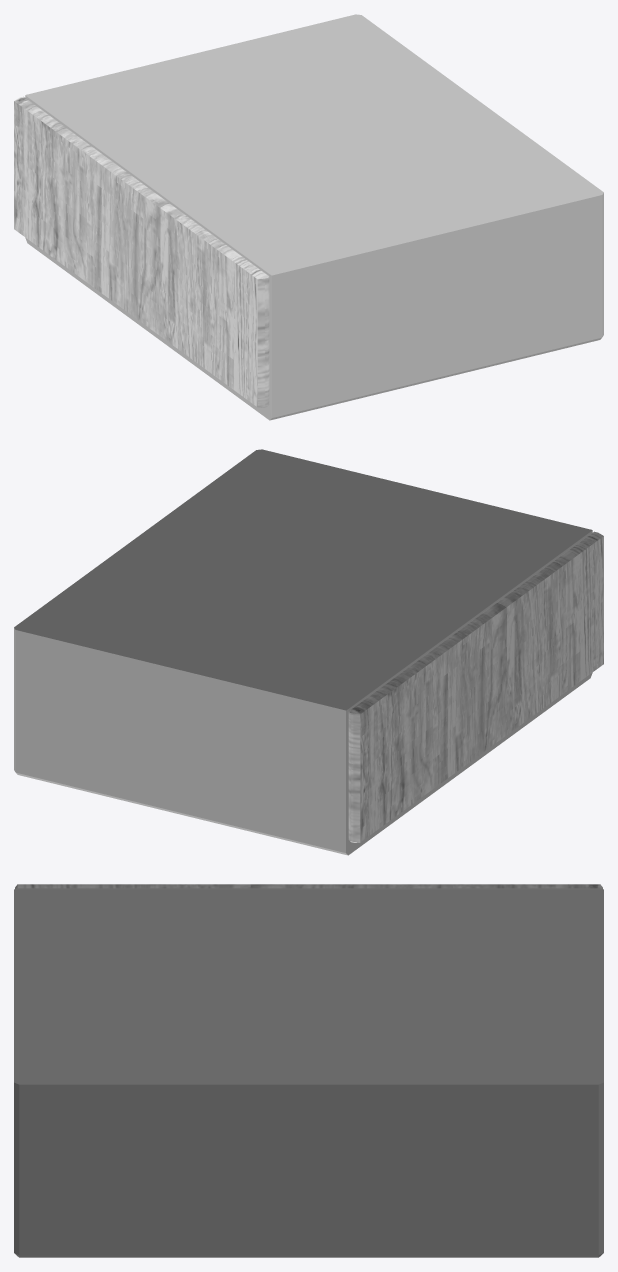
Rendered from OVEN_009.obj.
The picture shows the model from 3 angles, top to bottom: view 1: azimuth 30°, elevation 25°; view 2: azimuth 150°, elevation 25°; view 3: azimuth 270°, elevation 25°; orthographic projection. The views are drawn at different scales.
Visible parts, largest first — view 1: OVEN.009; view 2: OVEN.009; view 3: OVEN.009.
Part boxes in pixels (box(x1,y1,x2,y2)): OVEN.009: box(14, 14, 603, 420); OVEN.009: box(14, 449, 603, 855); OVEN.009: box(14, 884, 603, 1257).
Size of the model in its own units: 0.6805 by 0.2756 by 0.8376.
